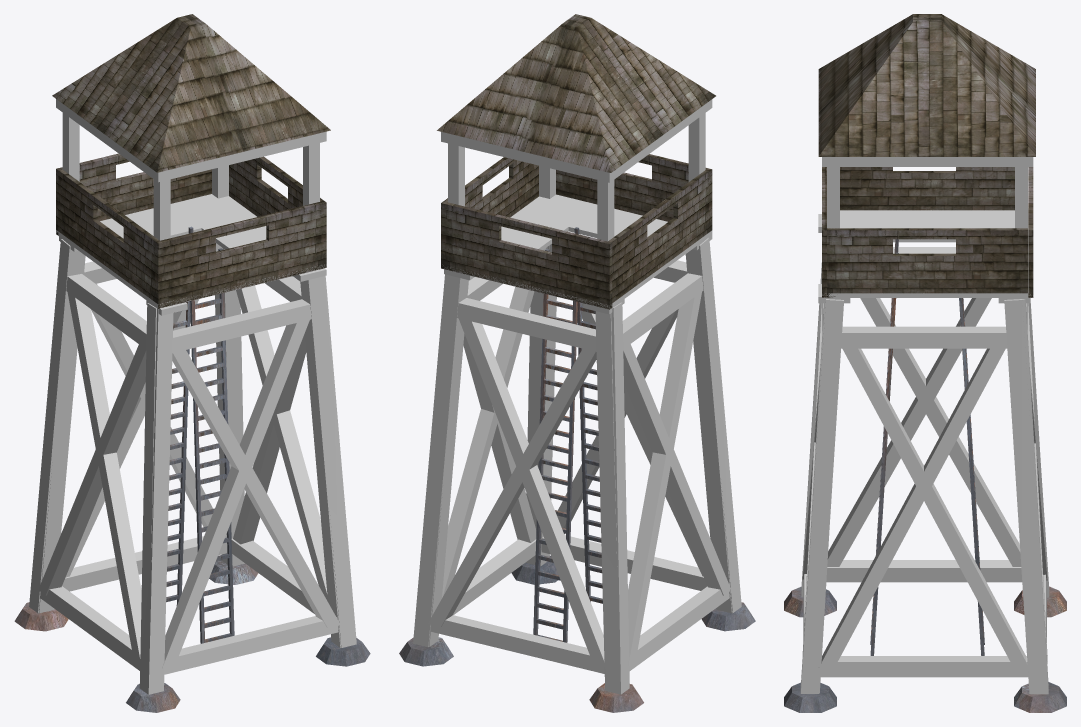
Rendered from tower.glb.
3 renders of one model, left to right at view 1: azimuth 30°, elevation 25°; view 2: azimuth 150°, elevation 25°; view 3: azimuth 270°, elevation 25°, orthographic. The views are drawn at different scales.
Visible parts, largest first — view 1: LEGS, WALLS, ROOF, LADDER, TOP-BEAMS, FLOOR, SUPPORTS; view 2: LEGS, WALLS, ROOF, LADDER, TOP-BEAMS, FLOOR, SUPPORTS; view 3: LEGS, ROOF, WALLS, FLOOR, TOP-BEAMS, SUPPORTS, LADDER.
Boxes of the visible parts, x1,y1,x2,y2 form: LEGS: (29, 236, 356, 694); WALLS: (56, 153, 326, 308); ROOF: (52, 14, 330, 172); LADDER: (166, 226, 234, 643); TOP-BEAMS: (56, 99, 326, 240); FLOOR: (56, 194, 325, 308); SUPPORTS: (14, 560, 370, 712); LEGS: (413, 235, 741, 694); WALLS: (441, 154, 712, 309); ROOF: (437, 14, 715, 172); LADDER: (533, 227, 602, 642); TOP-BEAMS: (441, 99, 712, 241); FLOOR: (442, 194, 712, 308); SUPPORTS: (399, 555, 755, 712); LEGS: (800, 214, 1049, 694); ROOF: (818, 14, 1035, 156); WALLS: (822, 167, 1033, 297); FLOOR: (822, 208, 1032, 297); TOP-BEAMS: (822, 157, 1033, 228); SUPPORTS: (784, 586, 1066, 712); LADDER: (870, 239, 984, 655).
Size of the model in its own units: 2.09 by 5.26 by 2.12.
Materials: 3 (2 with a texture image).
